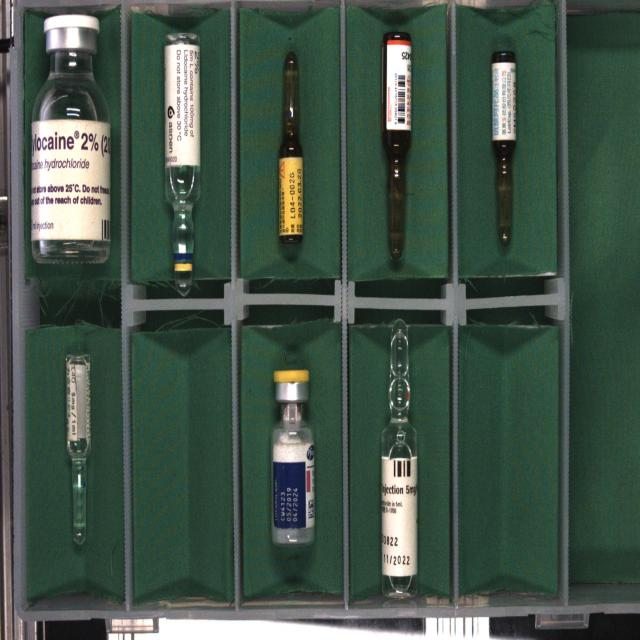Vials: (31, 14, 110, 263), (271, 369, 315, 546), (292, 370, 294, 371)
